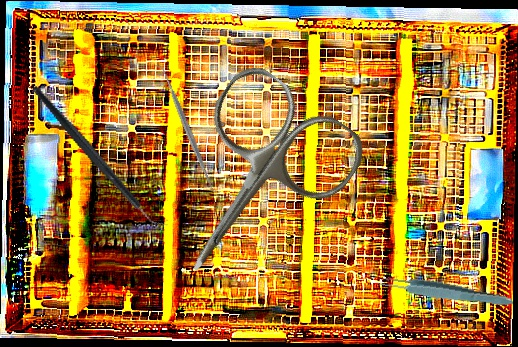Chopper: (30, 59, 170, 255)
Iris Scissors: (130, 57, 374, 313)
Spatula Surgical: (153, 58, 221, 199)
Tissue Forceps: (376, 271, 515, 311)
